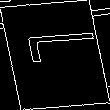L_E: (11, 36, 99, 74)
